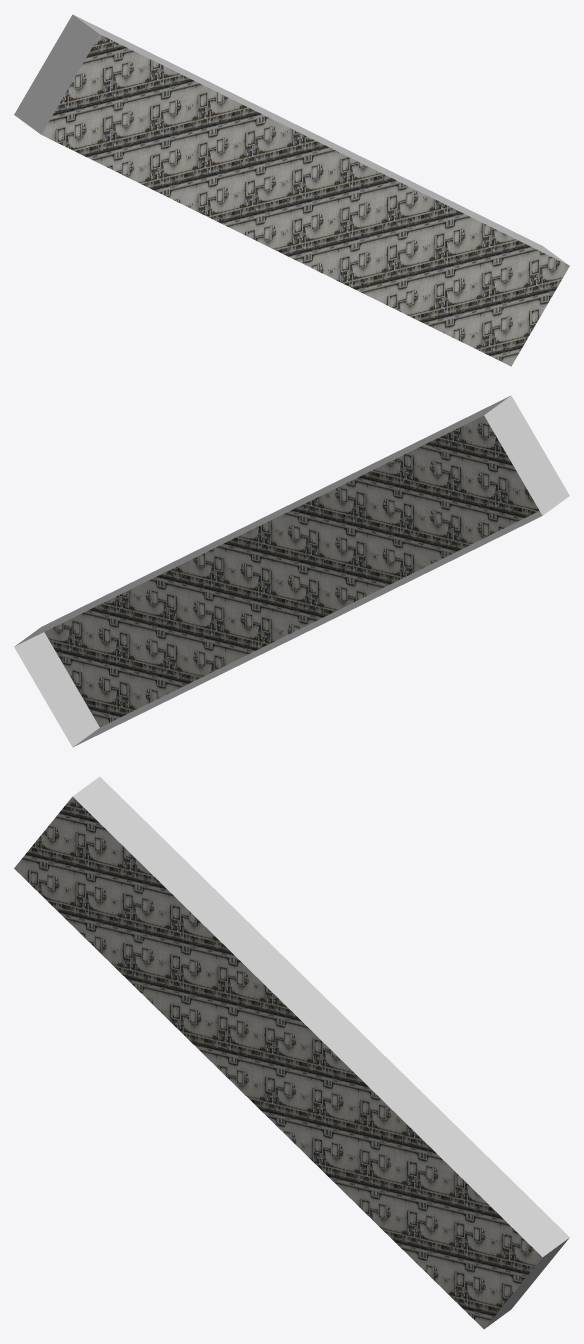
File: geospecific_355.obj
3 renders of one model, top to bottom at view 1: azimuth 30°, elevation 25°; view 2: azimuth 150°, elevation 25°; view 3: azimuth 330°, elevation 25°, orthographic.
Parts seen in each view (by area): view 1: Building; view 2: Building; view 3: Building.
Part boxes in pixels (x1,y1,x2,y2): Building: (14,14,569,366); Building: (14,395,569,747); Building: (14,776,569,1329).
Bounding box in the file's own units: 33.48 × 26.18 × 3.
